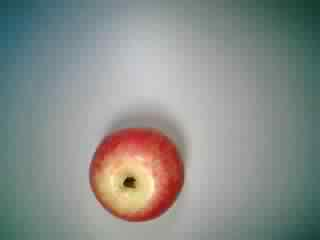apple: (86, 120, 190, 224)
